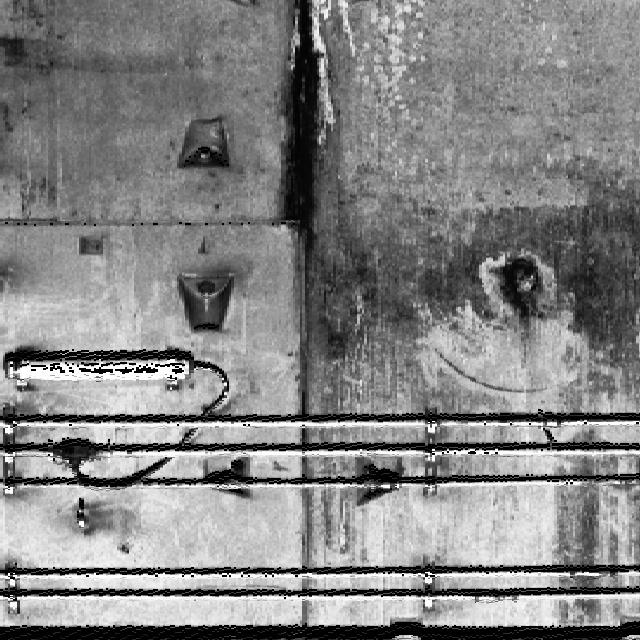leakage: (257, 0, 346, 250)
